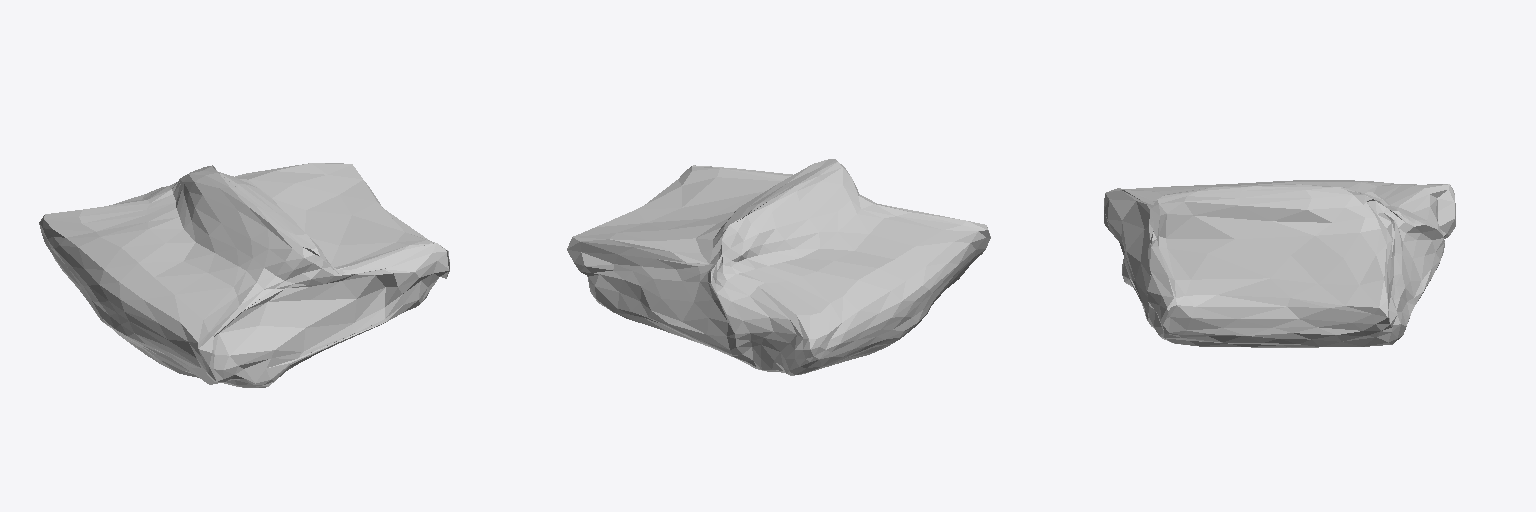
File: video3_7.obj
3 views of the same model, side by side, from view 1: azimuth 30°, elevation 25°; view 2: azimuth 150°, elevation 25°; view 3: azimuth 270°, elevation 25° (orthographic).
Bounding box in the file's own units: 0.9636 × 0.407 × 1.